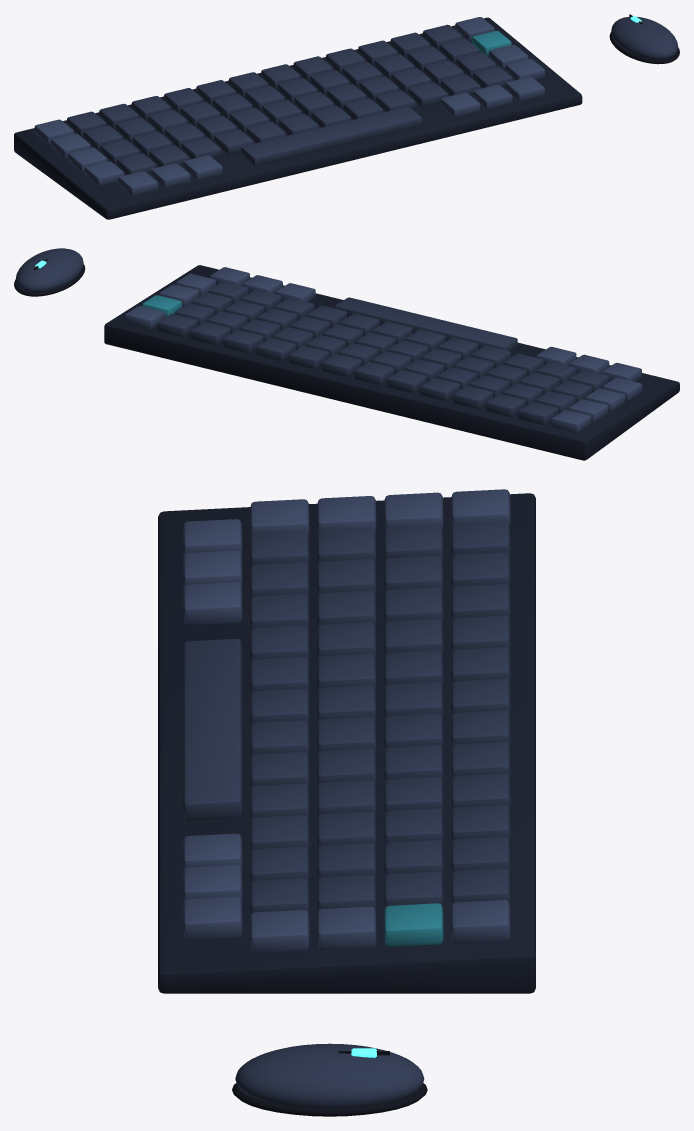
Rendered from peripherals.glb.
3 views of the same model, one above another, from view 1: azimuth 30°, elevation 25°; view 2: azimuth 150°, elevation 25°; view 3: azimuth 270°, elevation 25° (orthographic). The views are drawn at different scales.
Visible parts, largest first — view 1: peripherals; view 2: peripherals; view 3: peripherals.
Boxes of the visible parts, left/top/right/bottom form: peripherals: left=14, top=14, right=679, bottom=219; peripherals: left=14, top=248, right=679, bottom=460; peripherals: left=158, top=489, right=535, bottom=1116.
Bounding box in the file's own units: 0.814 × 0.042 × 0.22.
